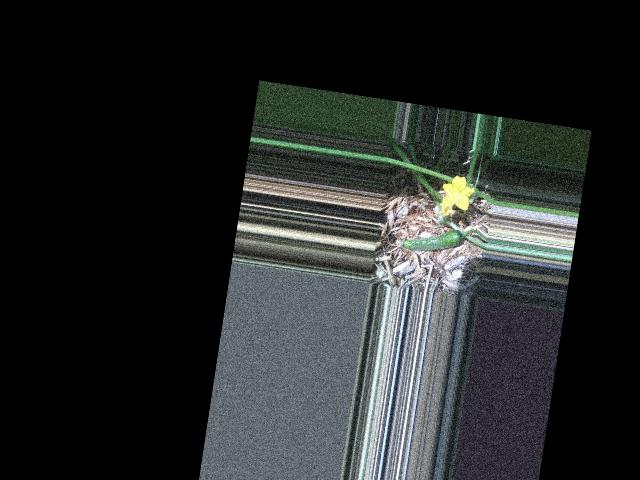cucumber: (396, 221, 464, 258)
